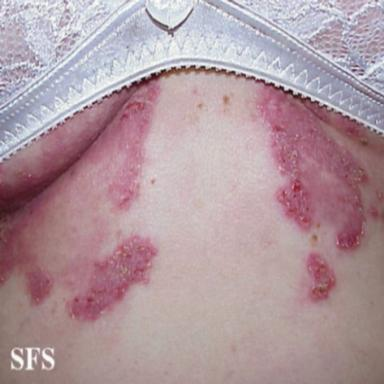Hailey-Hailey-Disease: (0, 80, 162, 321), (257, 86, 384, 252), (307, 252, 335, 300), (366, 188, 383, 223)
